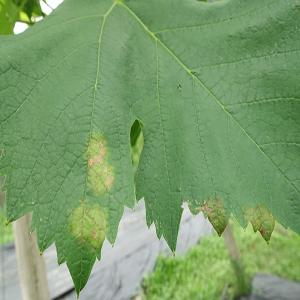Folha: (0, 0, 300, 298)
Fungo: (68, 130, 114, 258), (69, 198, 107, 260), (86, 131, 114, 196), (242, 202, 275, 244), (201, 195, 229, 237), (91, 228, 97, 238)
